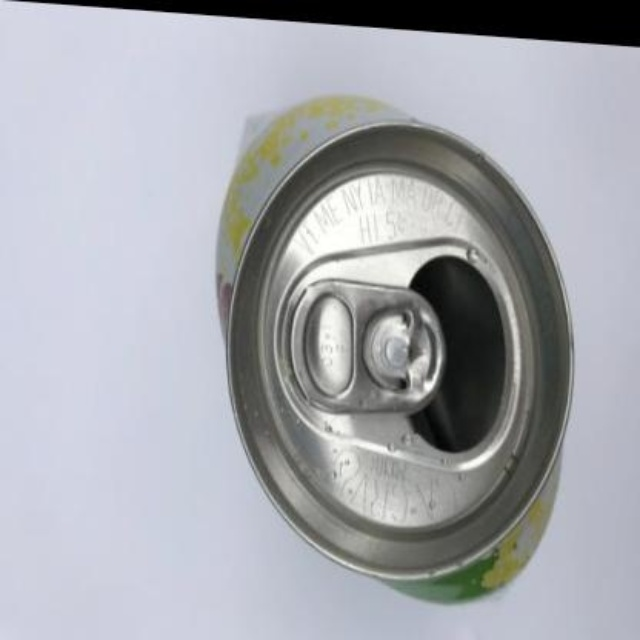trash: (217, 95, 571, 600)
